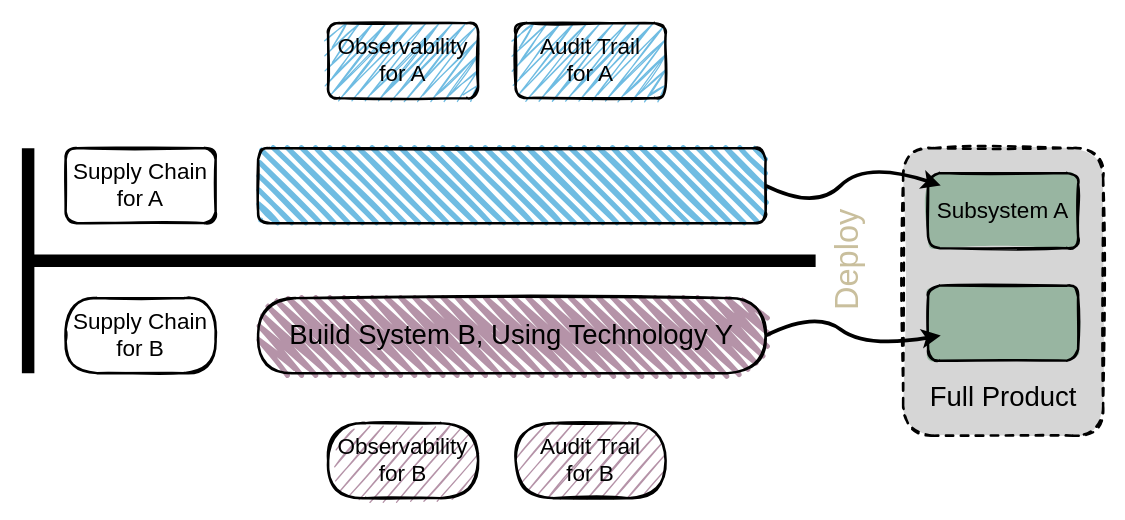
This 1125x520 diagram has some shape labels left out. Each missing label, with the centre of its shape:
"Build System A, Using Technology X" goes at point 511,185.
"Subsystem B" goes at point 1002,322.
